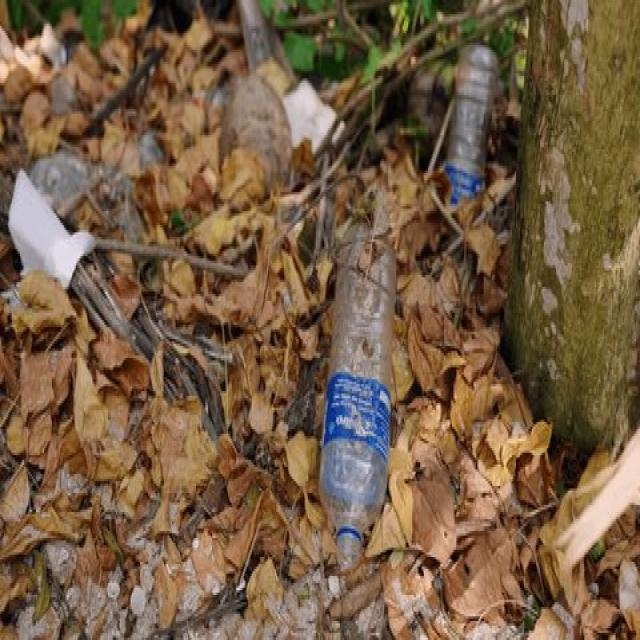plastic bottle: (315, 212, 411, 561), (447, 36, 500, 225)
